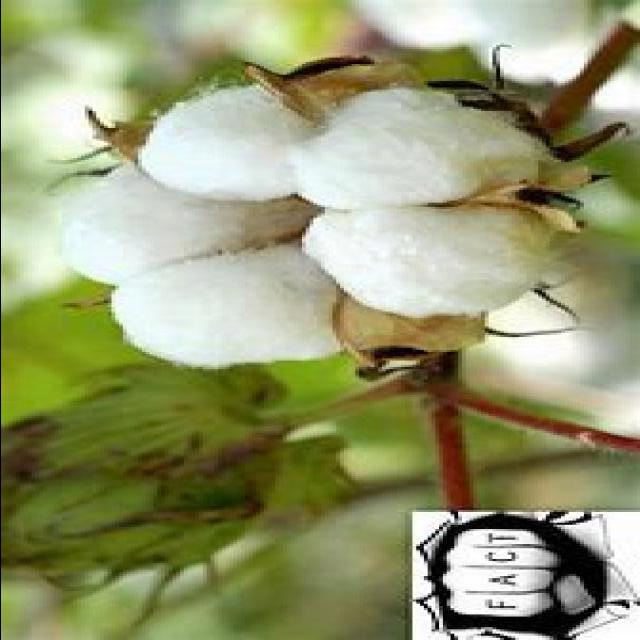Early Boll: (0, 358, 320, 592)
Matured Cotton Boll: (36, 67, 568, 371)
